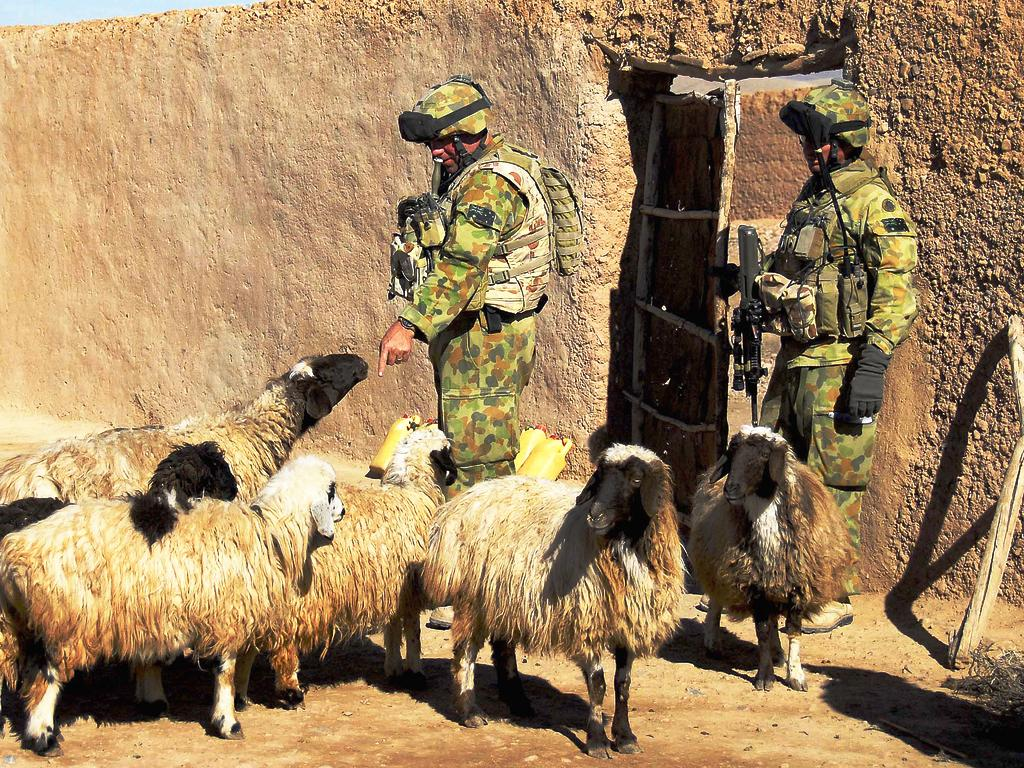Sheep: (0, 451, 351, 756), (425, 441, 714, 743), (0, 335, 376, 547), (226, 400, 468, 688), (0, 434, 238, 629), (681, 420, 847, 694)
